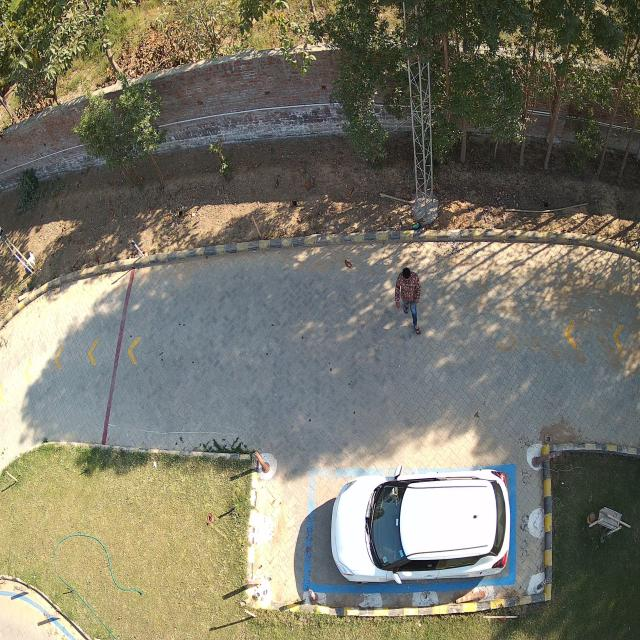car: (330, 469, 512, 584)
